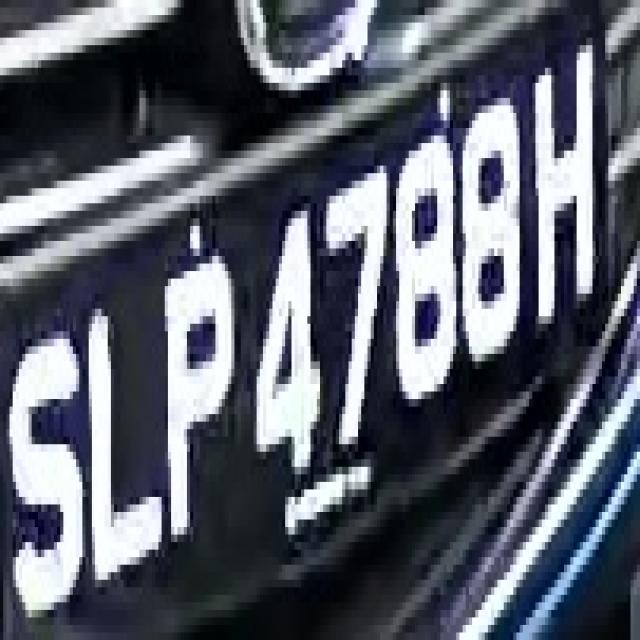4: (247, 188, 326, 497)
7: (320, 158, 393, 459)
8: (450, 83, 535, 391), (393, 113, 469, 429)
H: (532, 38, 605, 346)
L: (86, 271, 164, 610)
P: (158, 233, 244, 550)
